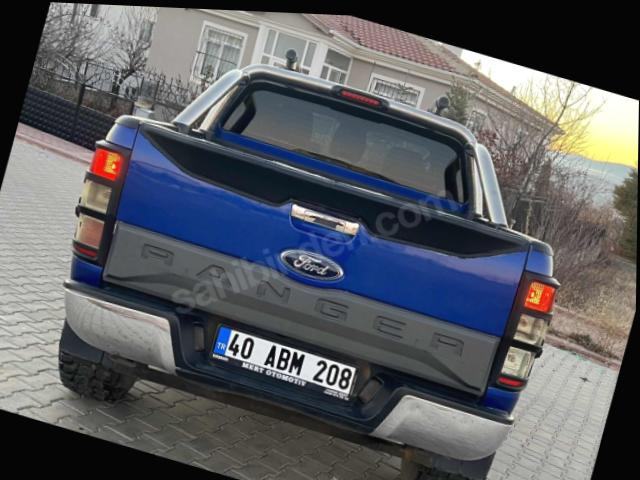plaka: (212, 327, 356, 399)
